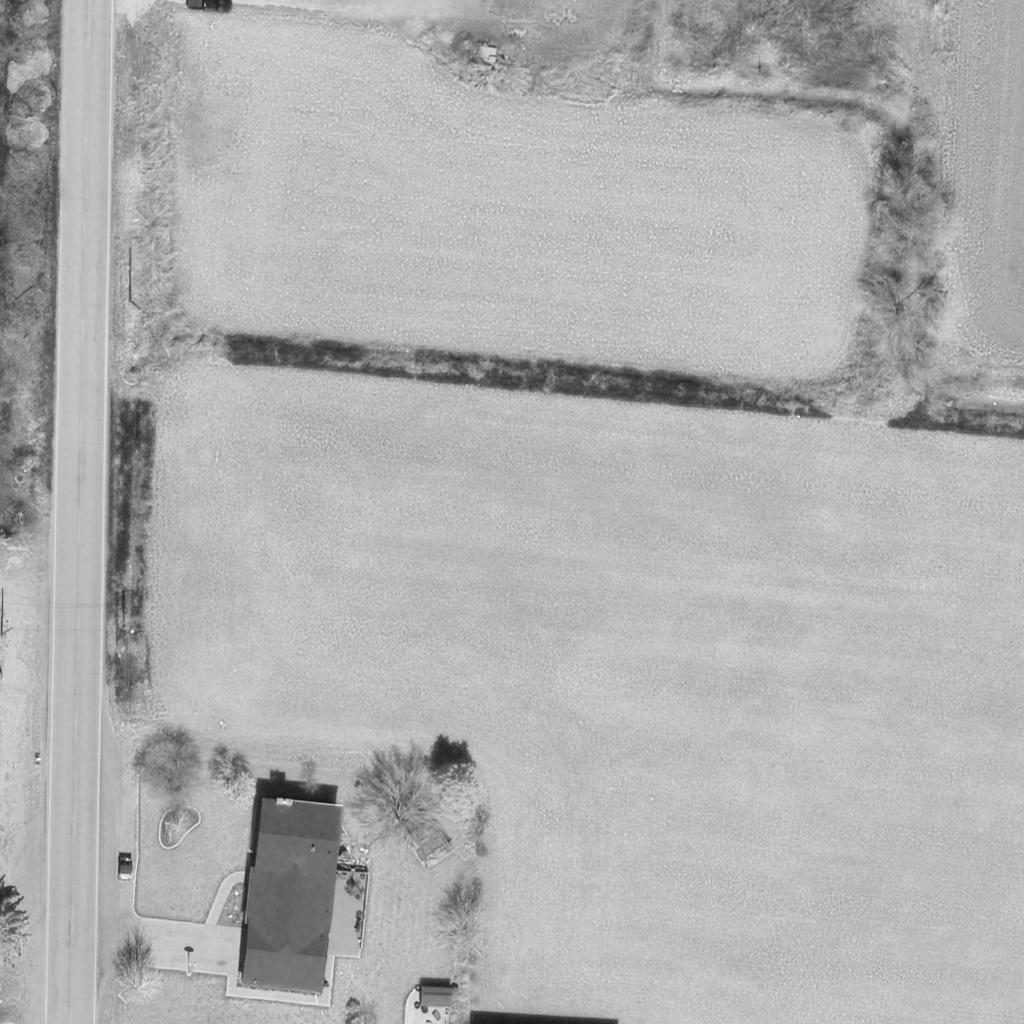vehicle: (186, 0, 234, 13), (117, 851, 135, 883)
